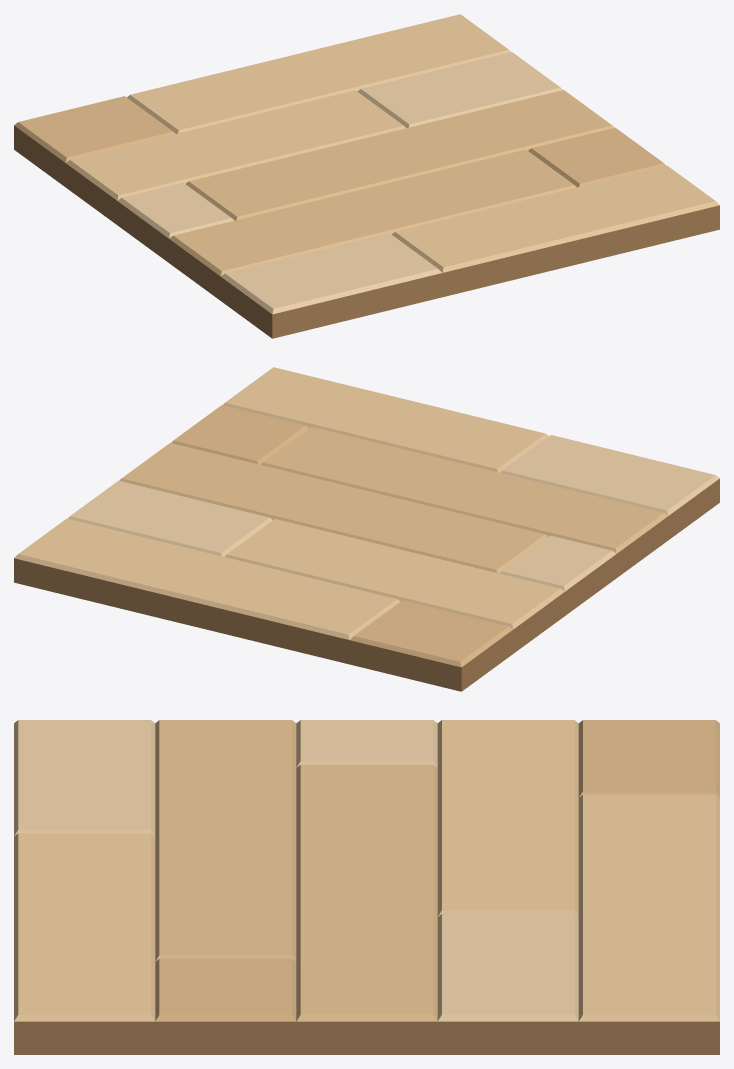
Rendered from boden_holz_b.glb.
3 renders of one model, top to bottom at view 1: azimuth 30°, elevation 25°; view 2: azimuth 150°, elevation 25°; view 3: azimuth 270°, elevation 25°, orthographic. The views are drawn at different scales.
Visible parts, largest first — view 1: boden_holz_b; view 2: boden_holz_b; view 3: boden_holz_b.
Boxes of the visible parts, x1,y1,x2,y2 form: boden_holz_b: [14, 14, 719, 338]; boden_holz_b: [14, 367, 719, 691]; boden_holz_b: [14, 720, 719, 1054].
Size of the model in its own units: 1 by 0.06 by 1.
